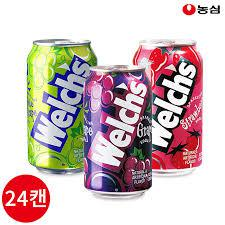welchs_grape: (80, 60, 159, 204)
